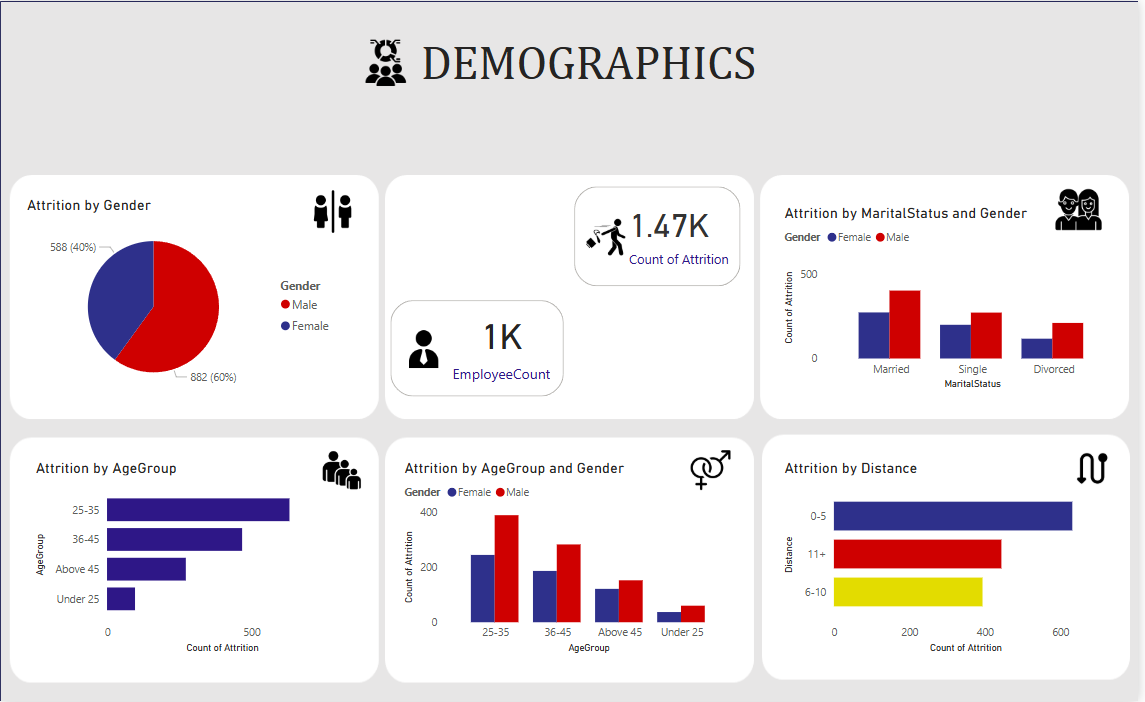

Layout of this report page (visuals, bound fields, positions):
{"tool":"powerbi","page":{"name":"Demographics","canvas":[1300,800],"ordinal":1},"visuals":[{"type":"pieChart","title":"Attrition by Gender","fields":{"Category":["HR-Employee-Attrition.Gender"],"Y":["CountNonNull(EmployeeAttrition.Attrition)"]},"box":[25.7,222.9,365.7,234.3],"z":0},{"type":"barChart","title":" Attrition by AgeGroup","fields":{"Y":["CountNonNull(EmployeeAttrition.Attrition)"],"Category":["EmployeeAttrition.AgeGroup"]},"box":[35.7,522.9,365.7,227.1],"z":1000},{"type":"barChart","title":"Attrition by Distance","fields":{"Y":["CountNonNull(EmployeeAttrition.Attrition)"],"Category":["EmployeeAttrition.Distance"]},"box":[891.4,522.9,378.6,227.1],"z":2000},{"type":"clusteredColumnChart","title":"Attrition by MaritalStatus and Gender","fields":{"Category":["HR-Employee-Attrition.MaritalStatus"],"Y":["CountNonNull(EmployeeAttrition.Attrition)"],"Series":["HR-Employee-Attrition.Gender"]},"box":[891.4,231.4,392.9,217.1],"z":3000},{"type":"cardVisual","fields":{"Data":["CountNonNull(HR-Employee-Attrition.Attrition)"]},"box":[651.4,207.1,200,124.3],"z":4000},{"type":"cardVisual","fields":{"Data":["Sum(HR-Employee-Attrition.EmployeeCount)"]},"box":[441.4,337.1,208.6,120],"z":5000},{"type":"clusteredColumnChart","title":"Attrition by AgeGroup and Gender","fields":{"Category":["EmployeeAttrition.AgeGroup"],"Series":["HR-Employee-Attrition.Gender"],"Y":["CountNonNull(HR-Employee-Attrition.Attrition)"]},"box":[457.1,522.9,384.3,227.1],"z":6000},{"type":"textbox","box":[475.7,38.6,415.7,74.3],"z":6001},{"type":"image","box":[380,38.6,121.4,64.3],"z":6002},{"type":"image","box":[354.3,508.6,72.9,55.7],"z":6003},{"type":"image","box":[782.9,508.6,58.6,55.7],"z":6004},{"type":"image","box":[1211.4,508.6,72.9,51.4],"z":6005},{"type":"image","box":[1181.4,207.1,102.9,62.9],"z":6006},{"type":"image","box":[342.9,211.4,74.3,58.6],"z":6007}]}

Visuals, with their boxes in screenshot pixels (x1, y1, x2, y2), scaled from the page's 1300x800 canvas onto the 1145x702 screenshot:
"Attrition by Gender" pieChart: 23,196,345,401
" Attrition by AgeGroup" barChart: 31,459,354,658
"Attrition by Distance" barChart: 785,459,1119,658
"Attrition by MaritalStatus and Gender" clusteredColumnChart: 785,203,1131,394
cardVisual - CountNonNull(HR-Employee-Attrition.Attrition): 574,182,750,291
cardVisual - Sum(HR-Employee-Attrition.EmployeeCount): 389,296,572,401
"Attrition by AgeGroup and Gender" clusteredColumnChart: 403,459,741,658
textbox: 419,34,785,99
image: 335,34,442,90
image: 312,446,376,495
image: 690,446,741,495
image: 1067,446,1131,491
image: 1041,182,1131,237
image: 302,186,367,237
